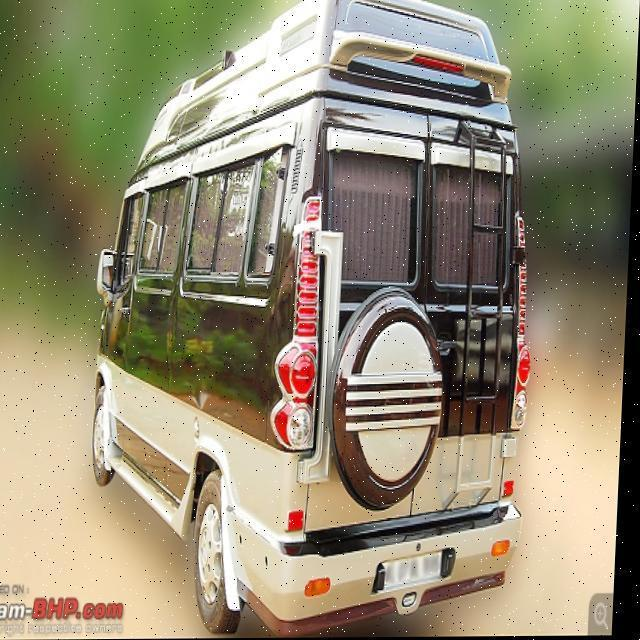Ambulance: (80, 0, 552, 635), (0, 288, 626, 636)
